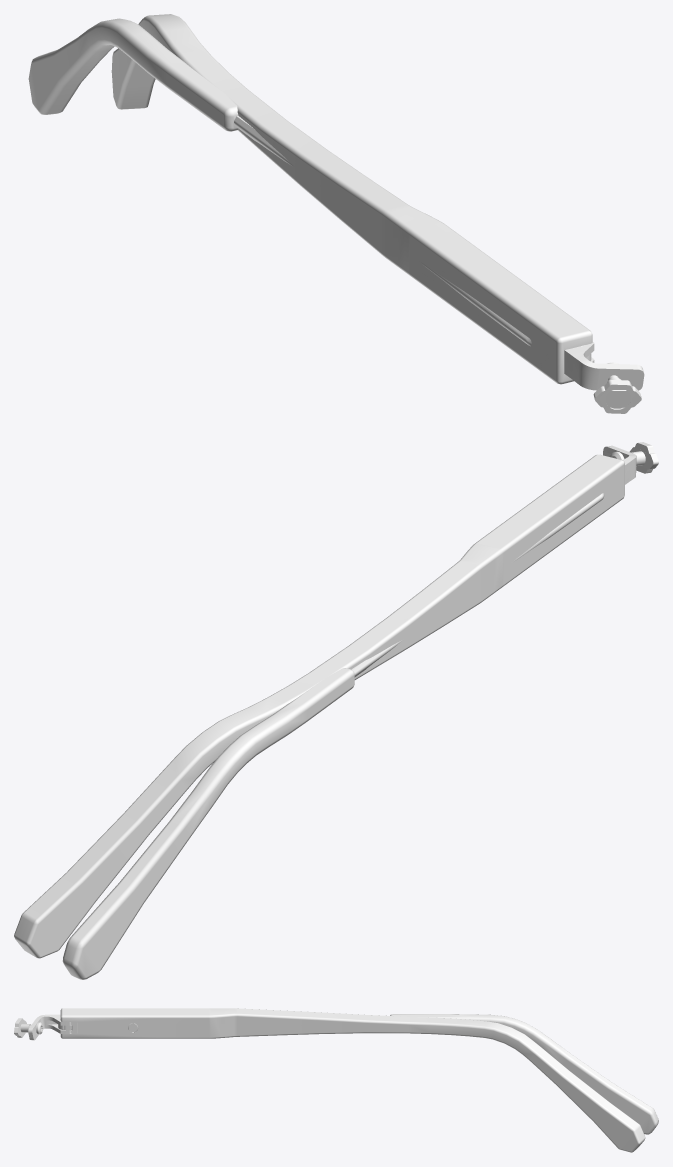
Rendered from asta.gltf.
3 renders of one model, top to bottom at view 1: azimuth 30°, elevation 25°; view 2: azimuth 150°, elevation 25°; view 3: azimuth 270°, elevation 25°, orthographic. The views are drawn at different scales.
Visible parts, largest first — view 1: ASTA_PLASTICA_DX, ASTA_METALLO_P_DX, CERNIERA_DX, ASTA_METALLO_DX, ABBELLITORE_DX_1, ABBELLITORE_DX; view 2: ASTA_PLASTICA_DX, ASTA_METALLO_P_DX, ASTA_METALLO_DX; view 3: ASTA_PLASTICA_DX, ASTA_METALLO_P_DX, CERNIERA_DX.
Boxes of the visible parts, left/top/right/bottom form: ASTA_PLASTICA_DX: left=111, top=14, right=592, bottom=384; ASTA_METALLO_P_DX: left=28, top=18, right=238, bottom=131; CERNIERA_DX: left=564, top=342, right=644, bottom=390; ASTA_METALLO_DX: left=234, top=116, right=531, bottom=346; ABBELLITORE_DX_1: left=593, top=379, right=641, bottom=407; ABBELLITORE_DX: left=599, top=377, right=635, bottom=413; ASTA_PLASTICA_DX: left=14, top=454, right=624, bottom=958; ASTA_METALLO_P_DX: left=62, top=668, right=354, bottom=979; ASTA_METALLO_DX: left=351, top=493, right=604, bottom=677; ASTA_PLASTICA_DX: left=60, top=1008, right=645, bottom=1152; ASTA_METALLO_P_DX: left=390, top=1014, right=658, bottom=1134; CERNIERA_DX: left=28, top=1014, right=71, bottom=1040.
Bounding box in the file's own units: 22.08 × 27.48 × 149.
Materials: 3 (1 with a texture image).
